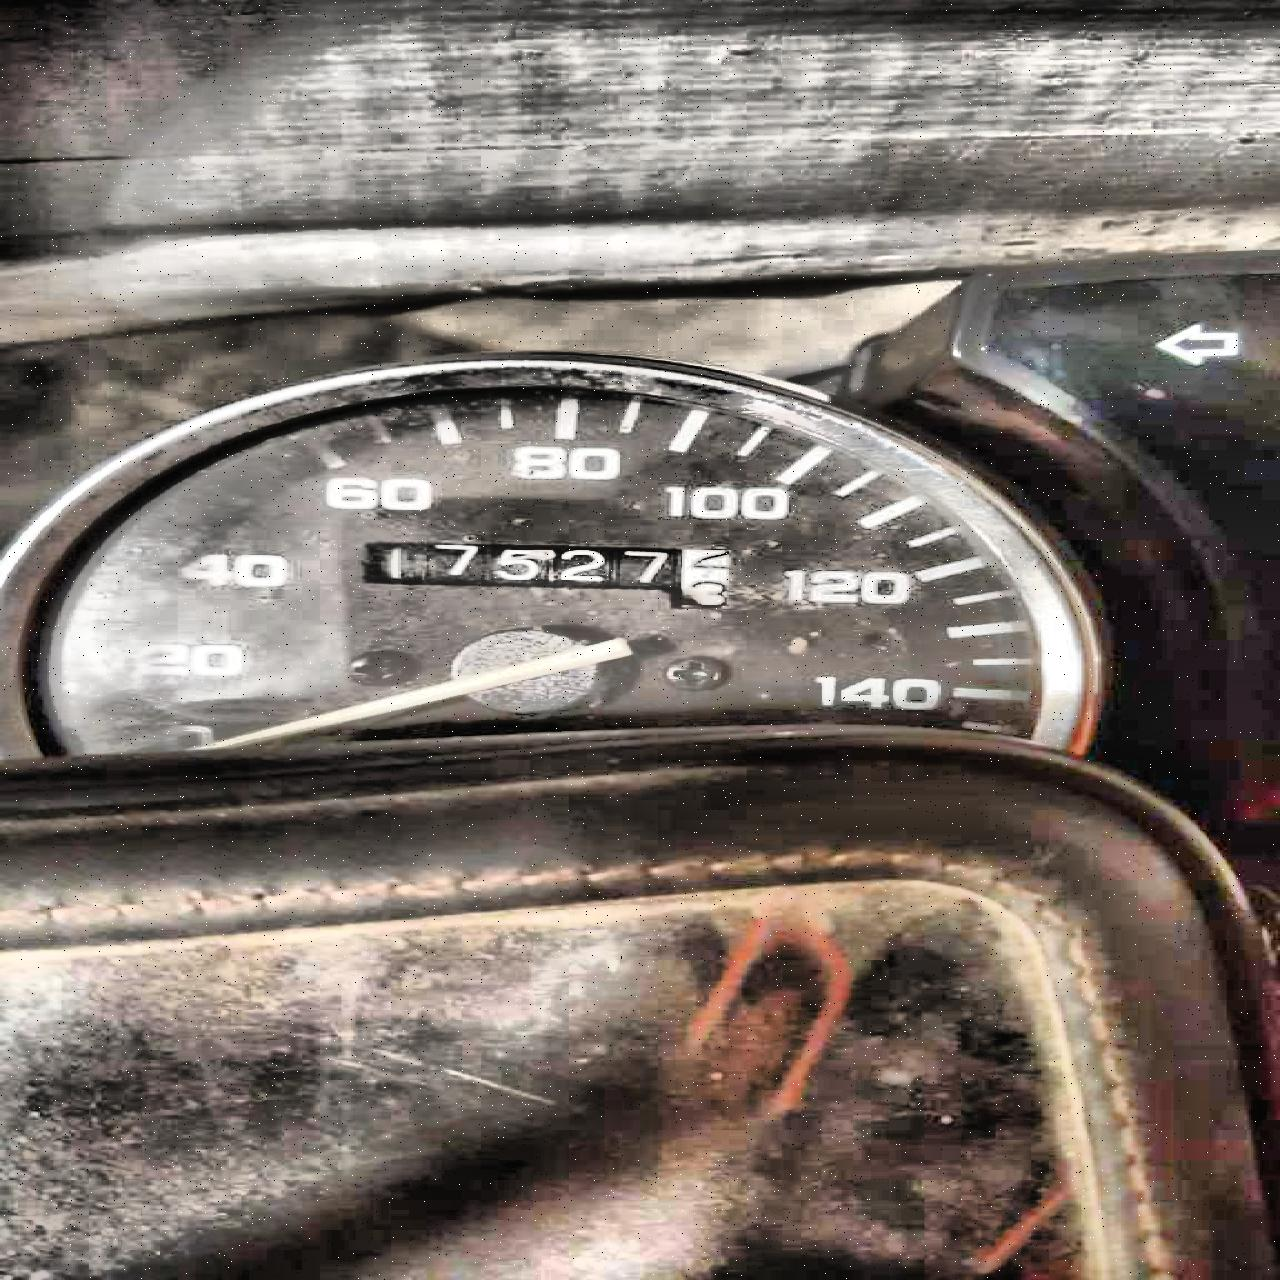1: (377, 546, 411, 586)
2: (556, 546, 605, 587), (687, 544, 731, 576)
3: (685, 580, 731, 607)
5: (491, 546, 542, 584)
7: (431, 539, 481, 579), (622, 546, 669, 583)
odometer: (355, 538, 735, 613)
